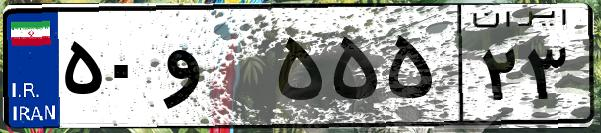0: (110, 28, 158, 98)
2: (475, 38, 525, 113)
3: (525, 38, 570, 115)
5: (270, 28, 330, 110), (385, 28, 445, 110), (330, 28, 385, 110), (57, 26, 110, 100)
و: (158, 20, 270, 120)
